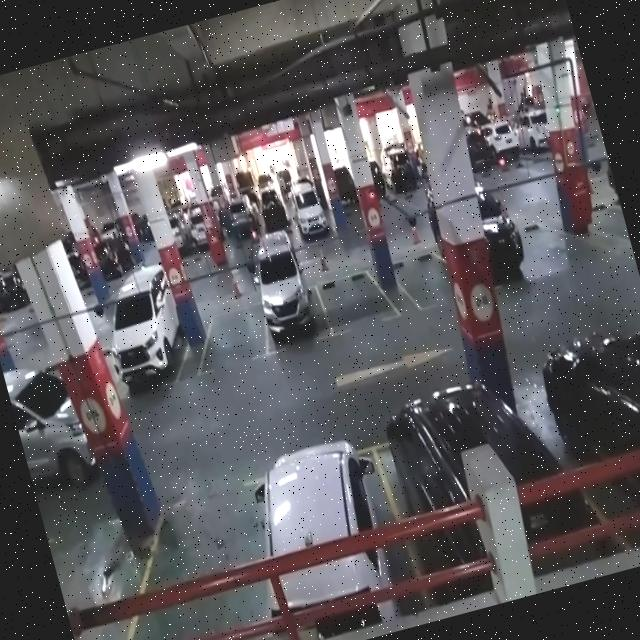empty: (106, 479, 294, 640), (184, 298, 272, 379), (313, 260, 401, 338), (391, 244, 456, 316)
occupied: (367, 372, 584, 601), (238, 429, 420, 640), (94, 274, 194, 401), (245, 248, 332, 356)
